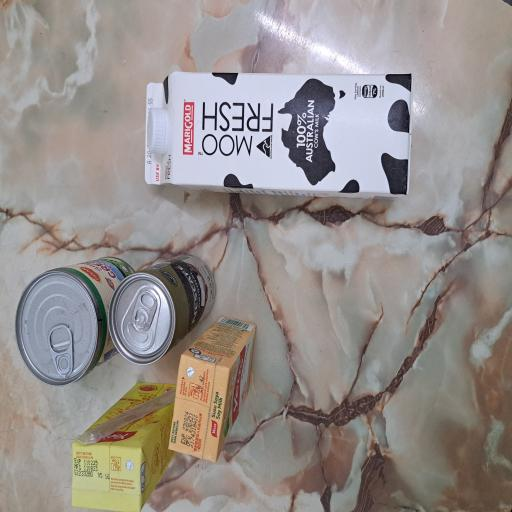can: (94, 20, 192, 180), (110, 144, 194, 288)
drink carton: (235, 191, 330, 512), (0, 96, 98, 236), (38, 224, 148, 342)
plastic bottle cap: (268, 196, 303, 226)
pop tab: (102, 64, 142, 98), (135, 176, 167, 209)
